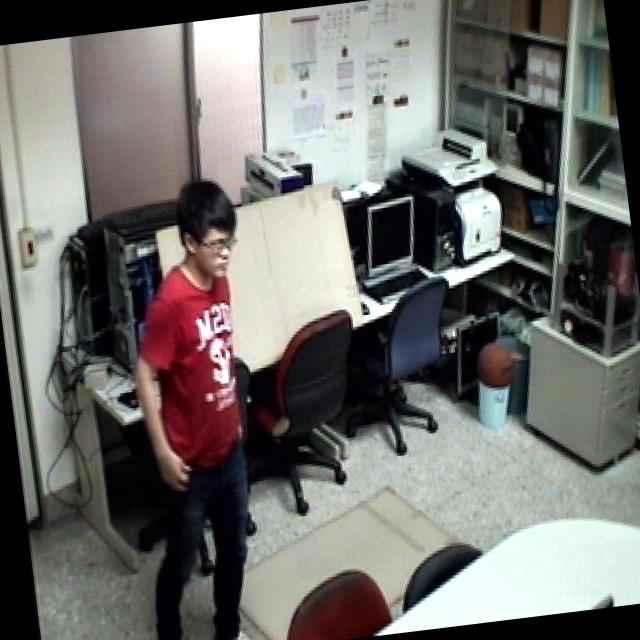stand: (84, 154, 305, 640)
